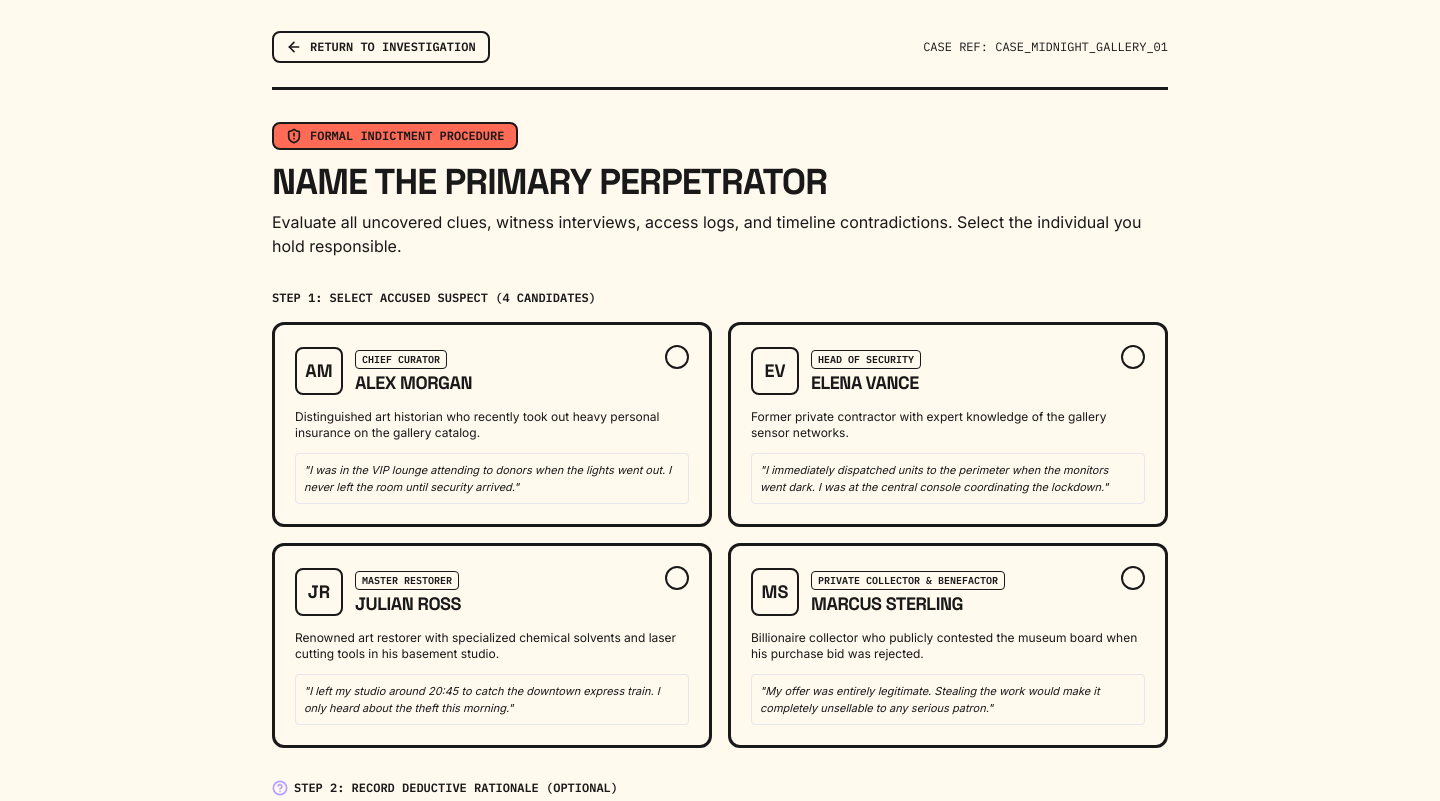
Test: Accusation Flow and Solution Reveal › opens confirmation modal and navigates to result on correct accusation
// Select Julian Ross (the actual culprit)
Click the heading "Julian Ross". click: click(408, 604)
box: top-left (355, 590), bottom-right (461, 618)
(page scrolled)
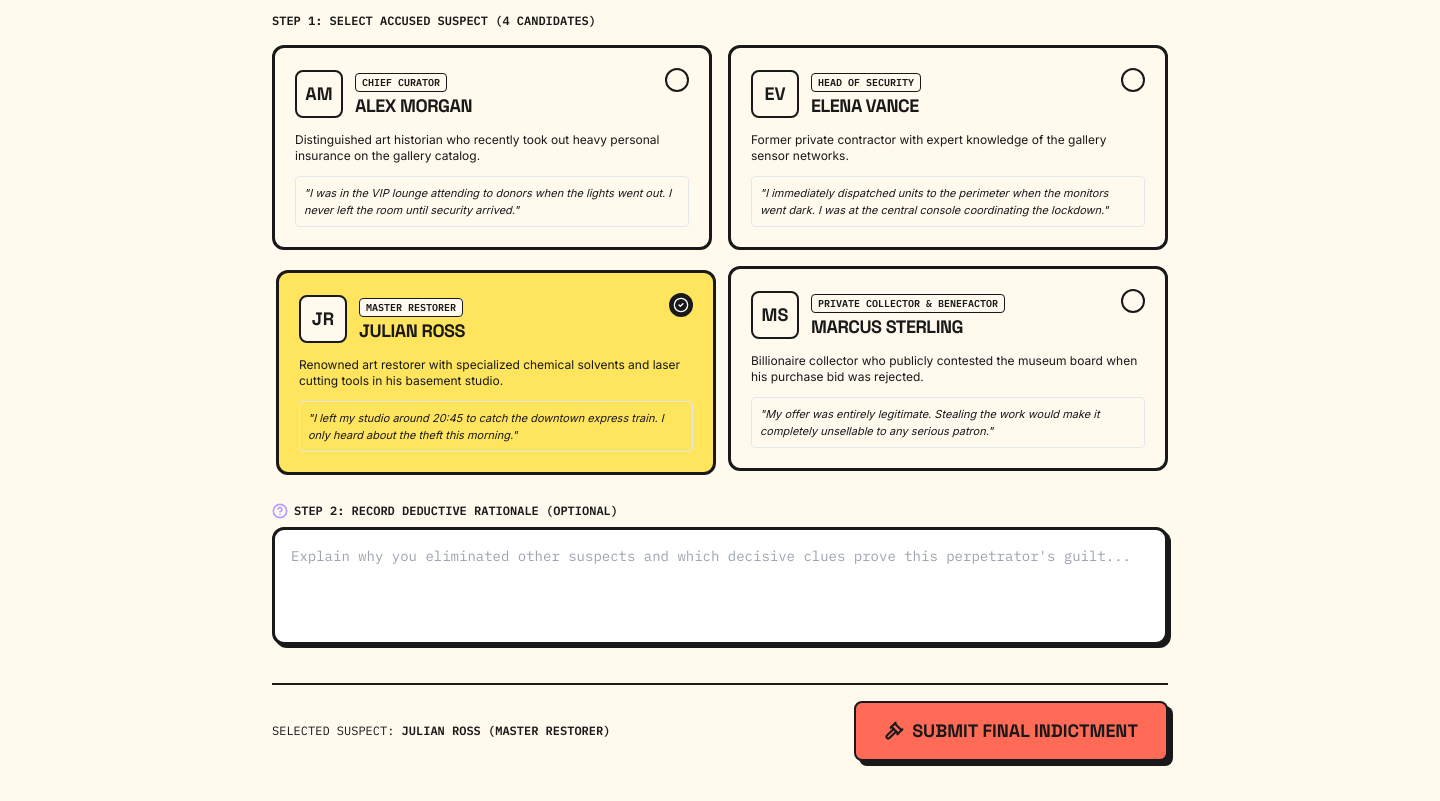
// Click submit indictment
Click the button "SUBMIT FINAL INDICTMENT". click: click(1011, 731)
box: top-left (854, 701), bottom-right (1168, 761)
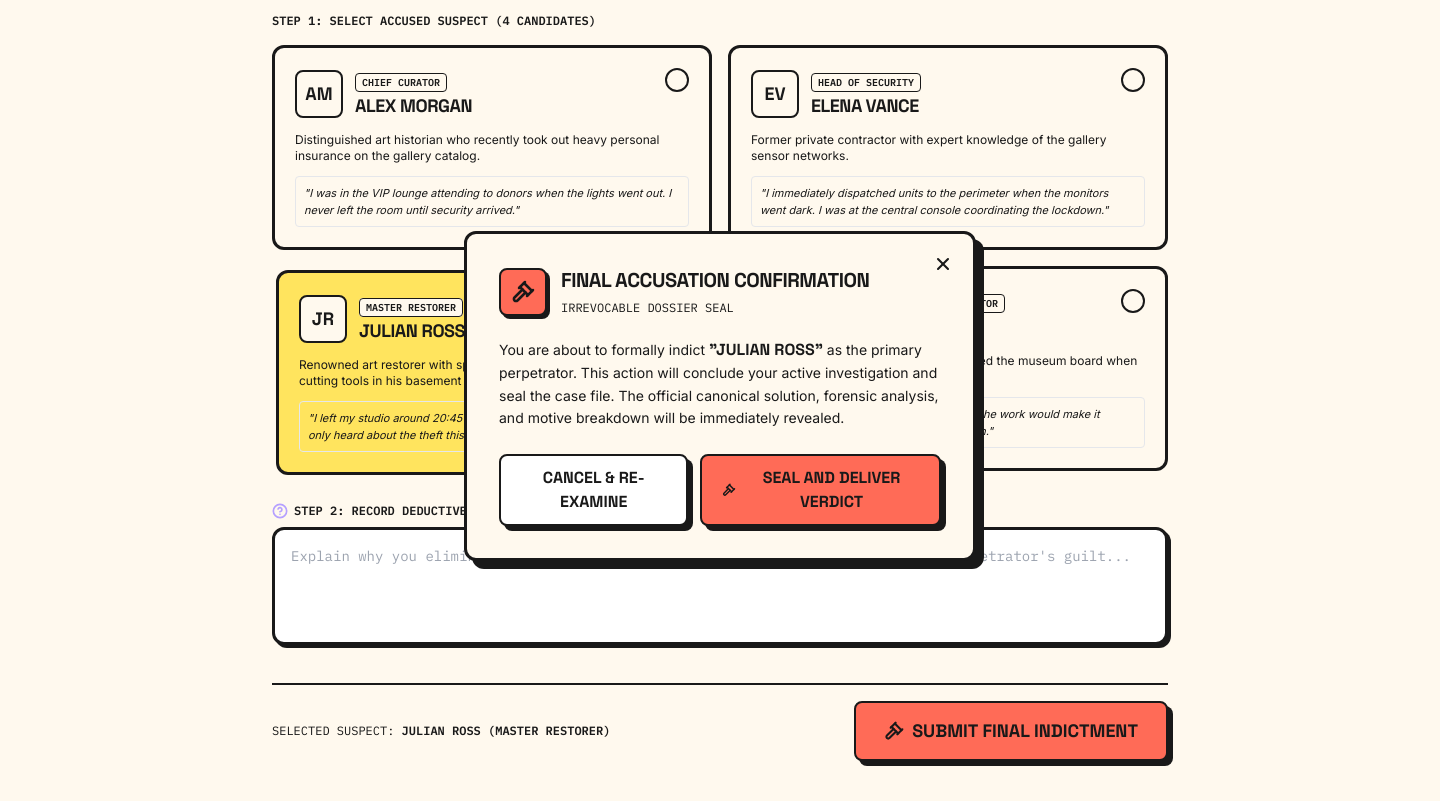
Result: the dialog is shown at top-left (464, 231), bottom-right (976, 561)
Result: the heading "FINAL ACCUSATION CONFIRMATION" is shown at top-left (561, 266), bottom-right (869, 294)
Result: the text "\"Julian Ross\"" is shown at top-left (709, 339), bottom-right (823, 360)
// Confirm accusation
Click the button "SEAL AND DELIVER VERDICT". click: click(821, 490)
box: top-left (700, 454), bottom-right (941, 526)
(page scrolled)
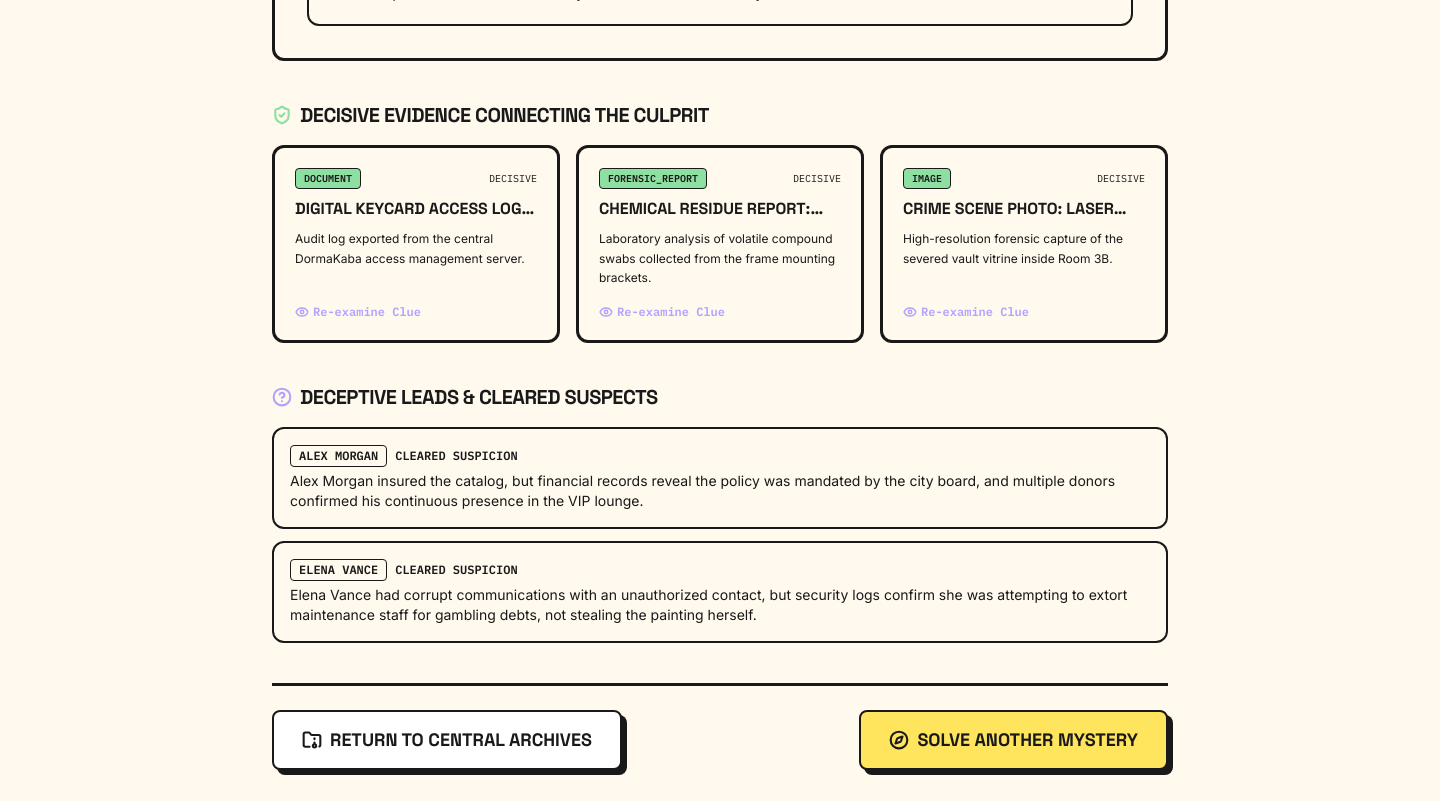
Result: the heading "DECISIVE EVIDENCE CONNECTING THE CULPRIT" is shown at top-left (300, 101), bottom-right (709, 129)
Result: the heading "DECEPTIVE LEADS & CLEARED SUSPECTS" is shown at top-left (300, 383), bottom-right (658, 411)
